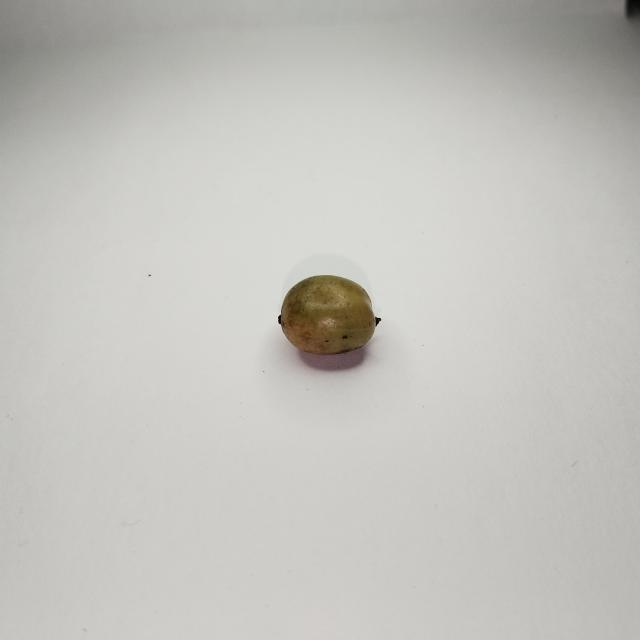Sano: (278, 275, 379, 355)
